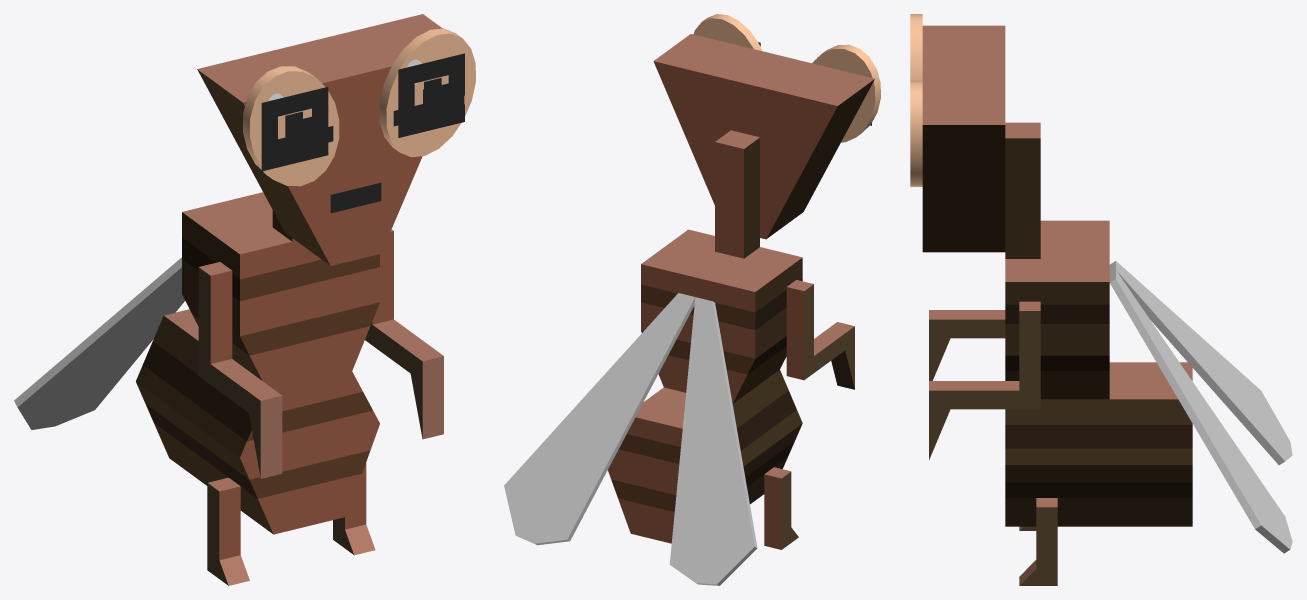
3 renders of one model, left to right at view 1: azimuth 30°, elevation 25°; view 2: azimuth 150°, elevation 25°; view 3: azimuth 270°, elevation 25°, orthographic. The views are drawn at different scales.
Visible parts, largest first — view 1: Ch_207_Head, Ch_207, Ch_207_Chest, Ch_207_Wing_R, Ch_207_Arm_L, Ch_207_Arm_R, Ch_207_Leg_L, Ch_207_Eye_03_L, Ch_207_Eye_03_R, Ch_207_Eye_02, Ch_207_Leg_R, Ch_207_Eye_01; view 2: Ch_207_Head, Ch_207_Wing_L, Ch_207_Chest, Ch_207_Wing_R, Ch_207, Ch_207_Arm_L, Ch_207_Leg_L; view 3: Ch_207_Head, Ch_207, Ch_207_Chest, Ch_207_Wing_L, Ch_207_Wing_R, Ch_207_Arm_R, Ch_207_Arm_L, Ch_207_Leg_R.
Part boxes in pixels (x1,y1,x2,y2): Ch_207_Head: (197, 14, 475, 265); Ch_207: (136, 309, 379, 534); Ch_207_Chest: (182, 192, 379, 389); Ch_207_Wing_R: (14, 257, 185, 429); Ch_207_Arm_L: (198, 262, 282, 478); Ch_207_Arm_R: (365, 229, 443, 439); Ch_207_Leg_L: (207, 477, 249, 585); Ch_207_Eye_03_L: (261, 87, 328, 171); Ch_207_Eye_03_R: (398, 53, 464, 137); Ch_207_Eye_02: (262, 94, 464, 158); Ch_207_Leg_R: (333, 462, 375, 555); Ch_207_Eye_01: (285, 78, 441, 146); Ch_207_Head: (653, 14, 880, 258); Ch_207_Wing_L: (504, 293, 695, 545); Ch_207_Chest: (641, 229, 802, 403); Ch_207_Wing_R: (669, 297, 757, 585); Ch_207: (608, 369, 802, 543); Ch_207_Arm_L: (786, 280, 854, 389); Ch_207_Leg_L: (764, 467, 798, 549); Ch_207_Head: (910, 14, 1040, 258); Ch_207: (1005, 362, 1192, 526); Ch_207_Chest: (1005, 220, 1109, 399); Ch_207_Wing_L: (1109, 270, 1292, 553); Ch_207_Wing_R: (1109, 261, 1292, 465); Ch_207_Arm_R: (929, 301, 1040, 459); Ch_207_Arm_L: (929, 310, 1005, 380); Ch_207_Leg_R: (1019, 498, 1057, 585).
Size of the model in its own units: 6.02 by 10.47 by 7.24.
